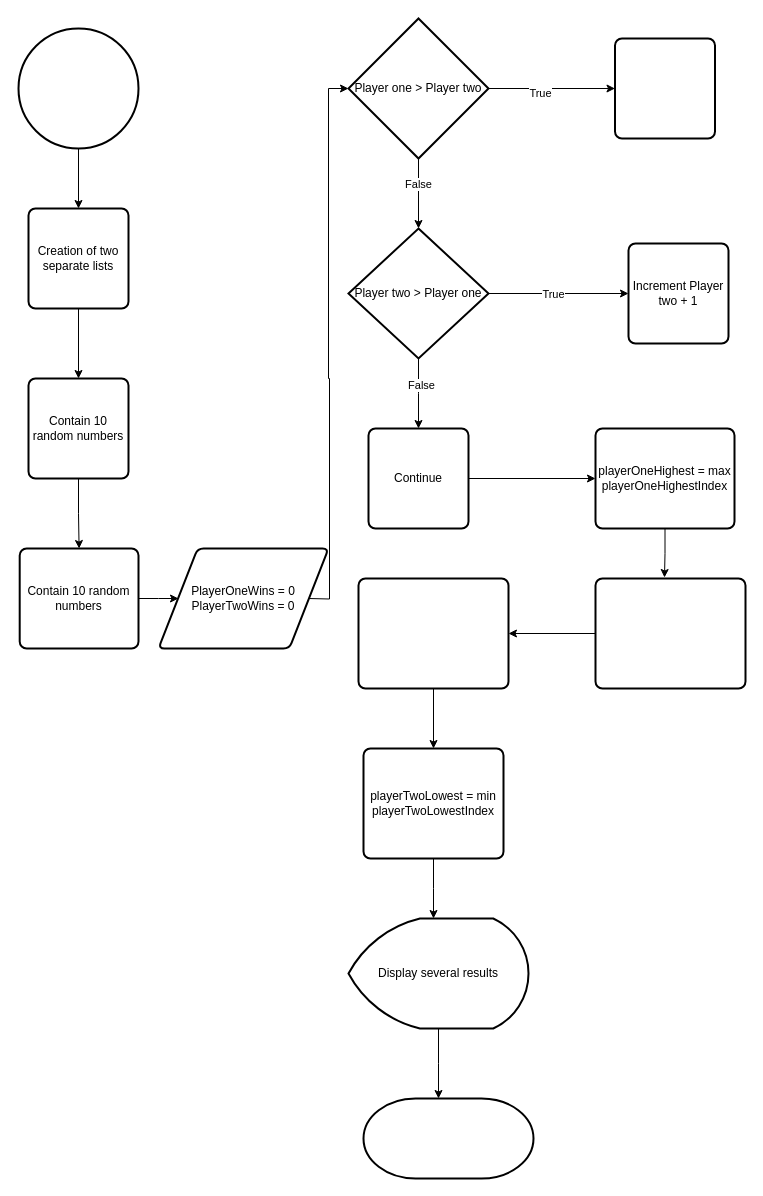
This 763x1196 diagram has some shape labels left out. Each missing label, with the centre of its shape:
"End" goes at point (448, 1138).
"Increment Player one + 1" goes at point (665, 88).
"playerOneLowest = min playerOneLowestIndex" goes at point (670, 633).
"playerTwoHighest = max playerTwoHighestIndex" goes at point (433, 633).
"Start" goes at point (78, 88).
